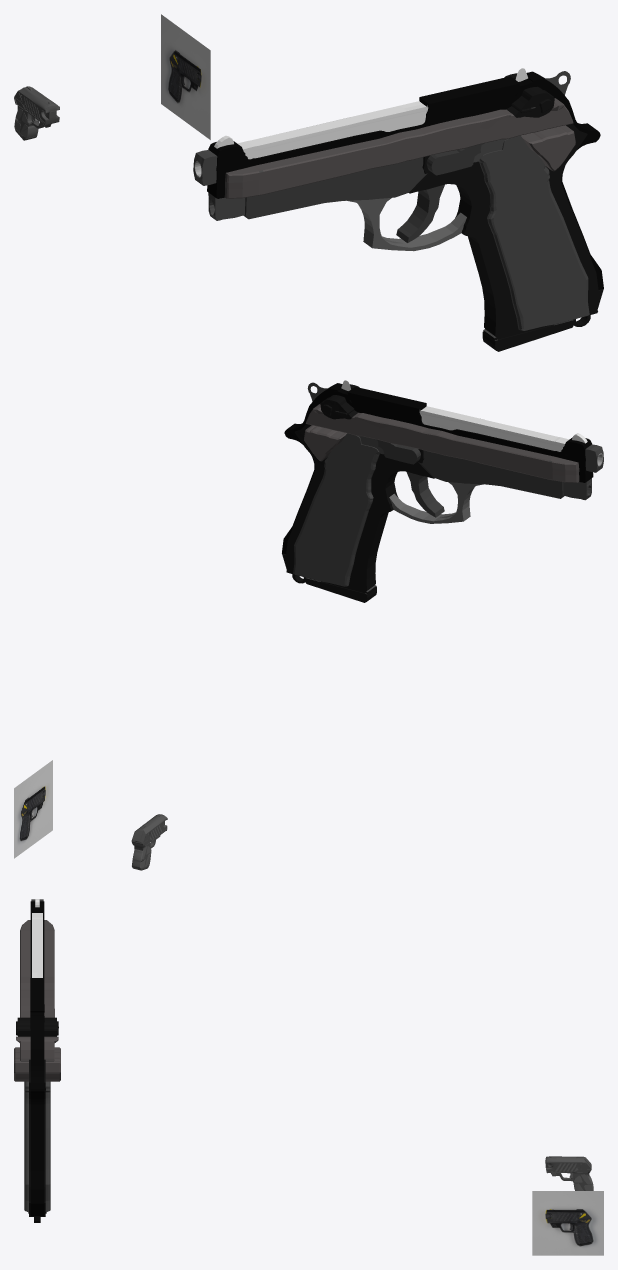
The model's file is taser4.fbx.
3 views of the same model, one above another, from view 1: azimuth 30°, elevation 25°; view 2: azimuth 150°, elevation 25°; view 3: azimuth 270°, elevation 25° (orthographic). The views are drawn at different scales.
Parts seen in each view (by area): view 1: Plane.002, taser, Plane; view 2: Plane.002, taser, Plane; view 3: Plane.002, taser, Plane.
Boxes of the visible parts, <box> form: Plane.002: <box>193,68,603,351</box>; taser: <box>161,14,210,139</box>; Plane: <box>14,86,59,140</box>; Plane.002: <box>282,380,603,602</box>; taser: <box>14,760,52,858</box>; Plane: <box>131,814,167,870</box>; Plane.002: <box>14,899,60,1222</box>; taser: <box>532,1191,603,1255</box>; Plane: <box>545,1156,593,1190</box>.
Bounding box in the file's own units: 467 × 371 × 823.
Materials: 13 (2 with a texture image).
